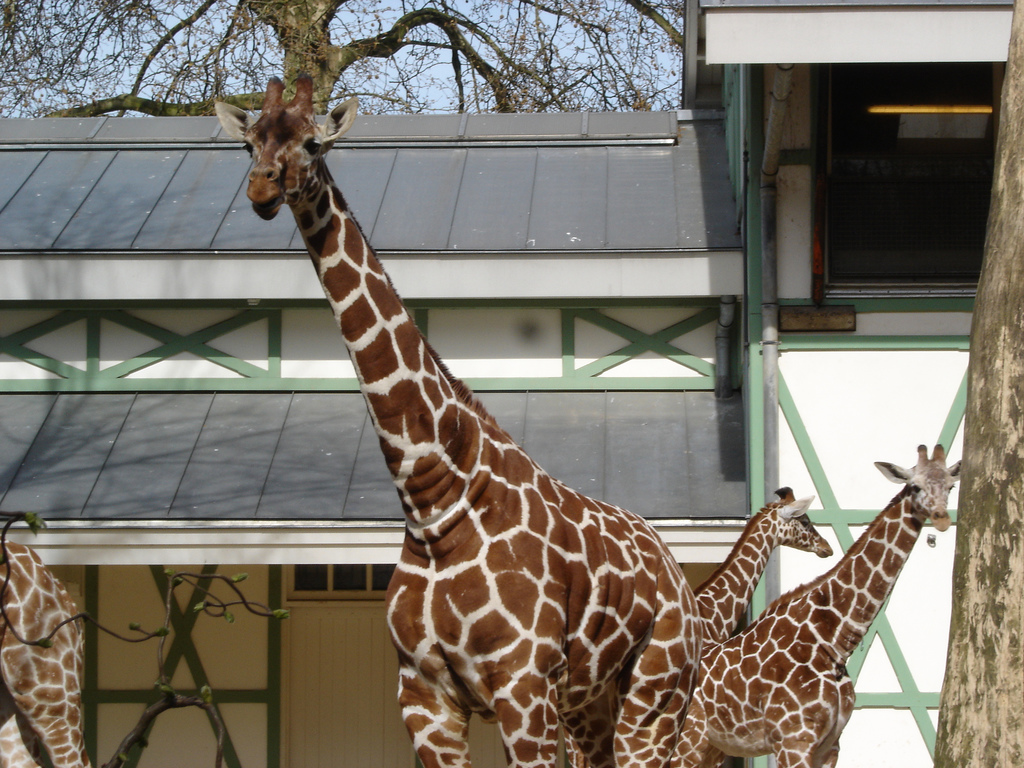giraffe: (214, 52, 648, 726), (732, 448, 989, 754), (601, 440, 819, 764)
